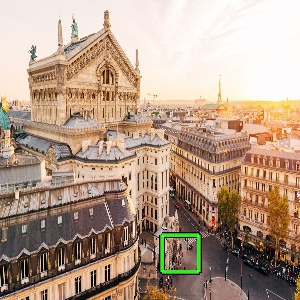square: (157, 230, 202, 276)
